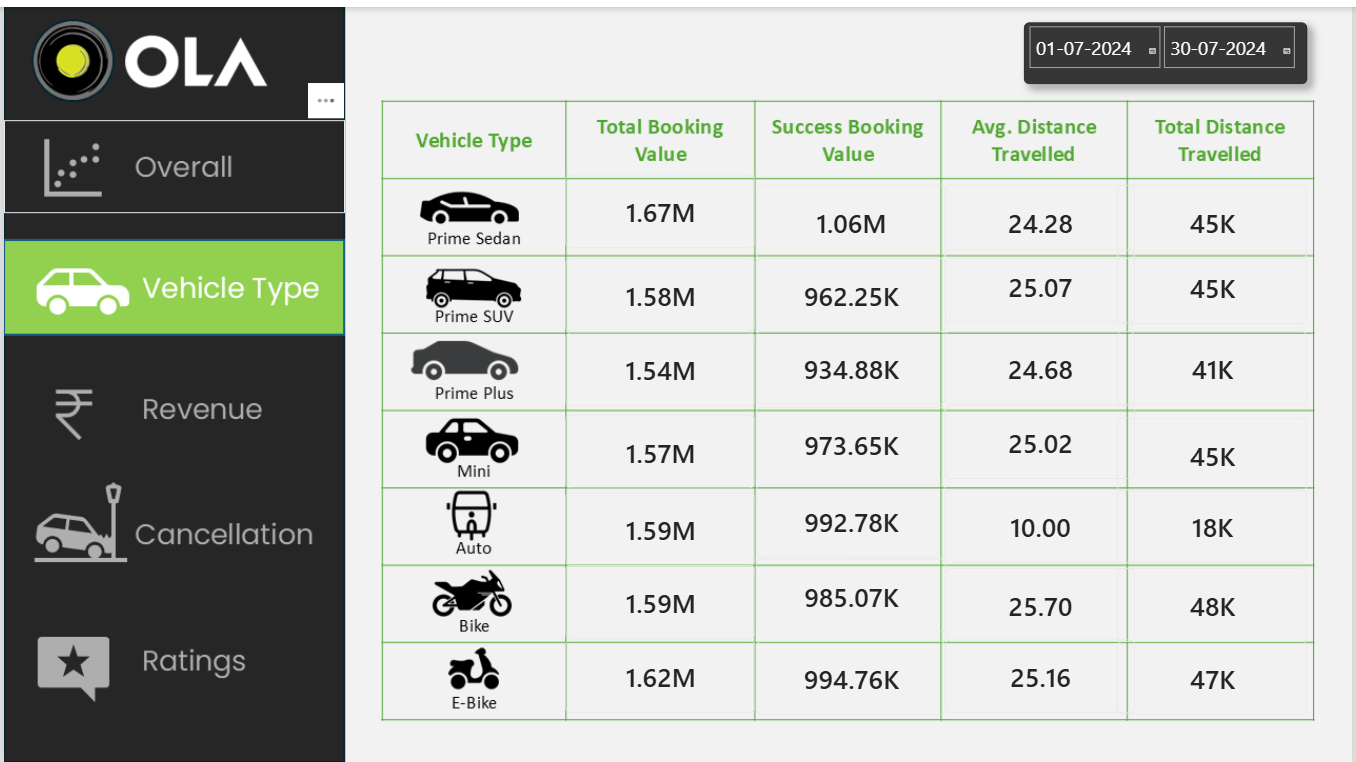

The dashboard page shown, as its layout file describes it:
{"tool":"powerbi","page":{"name":"Vehicle Type","canvas":[1920,1080],"ordinal":1},"visuals":[{"type":"actionButton","box":[0,161.2,486,133.5],"z":0},{"type":"actionButton","box":[10.1,516.3,486,133.5],"z":1000},{"type":"actionButton","box":[10.1,679.9,486,133.5],"z":2000},{"type":"actionButton","box":[10.1,873.9,486,133.5],"z":3000},{"type":"cardVisual","fields":{"Data":["Sum(bookings (2).Booking_Value)"]},"box":[799,238.2,271.4,105.5],"z":4000},{"type":"cardVisual","fields":{"Data":["Sum(bookings (2).Booking_Value)"]},"box":[799,464.3,271.4,105.5],"z":5000},{"type":"cardVisual","fields":{"Data":["Sum(bookings (2).Booking_Value)"]},"box":[799,581.9,271.4,105.5],"z":6000},{"type":"cardVisual","fields":{"Data":["Sum(bookings (2).Booking_Value)"]},"box":[799,690.5,271.4,105.5],"z":7000},{"type":"cardVisual","fields":{"Data":["Sum(bookings (2).Booking_Value)"]},"box":[799,796,271.4,105.5],"z":8000},{"type":"cardVisual","fields":{"Data":["Sum(bookings (2).Booking_Value)"]},"box":[799,901.6,271.4,105.5],"z":9000},{"type":"cardVisual","fields":{"Data":["Sum(bookings (2).Booking_Value)"]},"box":[799,358.8,271.4,105.5],"z":10000},{"type":"cardVisual","fields":{"Data":["Sum(bookings (2).Booking_Value)"]},"box":[1070.4,253.3,271.4,105.5],"z":11000},{"type":"cardVisual","fields":{"Data":["Sum(bookings (2).Booking_Value)"]},"box":[1070.4,358.8,271.4,105.5],"z":12000},{"type":"cardVisual","fields":{"Data":["Sum(bookings (2).Booking_Value)"]},"box":[1070.4,461.3,271.4,105.5],"z":13000},{"type":"cardVisual","fields":{"Data":["Sum(bookings (2).Booking_Value)"]},"box":[1070.4,569.9,271.4,105.5],"z":14000},{"type":"cardVisual","fields":{"Data":["Sum(bookings (2).Booking_Value)"]},"box":[1070.4,681.4,271.4,105.5],"z":15000},{"type":"cardVisual","fields":{"Data":["Sum(bookings (2).Booking_Value)"]},"box":[1070.4,787,271.4,105.5],"z":16000},{"type":"cardVisual","fields":{"Data":["Sum(bookings (2).Booking_Value)"]},"box":[1070.4,904.6,271.4,105.5],"z":17000},{"type":"cardVisual","fields":{"Data":["Avg(bookings (2).Ride_Distance)"]},"box":[1341.8,253.3,271.4,105.5],"z":18000},{"type":"cardVisual","fields":{"Data":["Avg(bookings (2).Ride_Distance)"]},"box":[1341.8,343.7,271.4,105.5],"z":19000},{"type":"cardVisual","fields":{"Data":["Avg(bookings (2).Ride_Distance)"]},"box":[1341.8,461.3,271.4,105.5],"z":20000},{"type":"cardVisual","fields":{"Data":["Avg(bookings (2).Ride_Distance)"]},"box":[1341.8,566.9,271.4,105.5],"z":21000},{"type":"cardVisual","fields":{"Data":["Avg(bookings (2).Ride_Distance)"]},"box":[1341.8,687.5,271.4,105.5],"z":22000},{"type":"cardVisual","fields":{"Data":["Avg(bookings (2).Ride_Distance)"]},"box":[1341.8,799,271.4,105.5],"z":23000},{"type":"cardVisual","fields":{"Data":["Avg(bookings (2).Ride_Distance)"]},"box":[1341.8,901.6,271.4,105.5],"z":24000},{"type":"cardVisual","fields":{"Data":["Sum(bookings (2).Ride_Distance)"]},"box":[1586,253.3,271.4,105.5],"z":25000},{"type":"cardVisual","fields":{"Data":["Sum(bookings (2).Ride_Distance)"]},"box":[1586,346.8,271.4,105.5],"z":26000},{"type":"cardVisual","fields":{"Data":["Sum(bookings (2).Ride_Distance)"]},"box":[1586,461.3,271.4,105.5],"z":27000},{"type":"cardVisual","fields":{"Data":["Sum(bookings (2).Ride_Distance)"]},"box":[1586,585,271.4,105.5],"z":28000},{"type":"cardVisual","fields":{"Data":["Sum(bookings (2).Ride_Distance)"]},"box":[1586,687.5,271.4,105.5],"z":29000},{"type":"cardVisual","fields":{"Data":["Sum(bookings (2).Ride_Distance)"]},"box":[1586,799,271.4,105.5],"z":30000},{"type":"cardVisual","fields":{"Data":["Sum(bookings (2).Ride_Distance)"]},"box":[1586,904.6,271.4,105.5],"z":31000},{"type":"slicer","title":"Date","fields":{"Values":["bookings (2).Date"]},"box":[1453.3,21.1,404,87.4],"z":32000}]}

Visuals, with their boxes on the page's 1920x1080 design canvas (x1, y1, x2, y2). These are canvas units, not pixel positions in the 1356x762 screenshot, which may show the page scaled, cropped or inside an application window:
actionButton: 0/161/486/295
actionButton: 10/516/496/650
actionButton: 10/680/496/813
actionButton: 10/874/496/1007
cardVisual - Sum(bookings (2).Booking_Value): 799/238/1070/344
cardVisual - Sum(bookings (2).Booking_Value): 799/464/1070/570
cardVisual - Sum(bookings (2).Booking_Value): 799/582/1070/687
cardVisual - Sum(bookings (2).Booking_Value): 799/690/1070/796
cardVisual - Sum(bookings (2).Booking_Value): 799/796/1070/902
cardVisual - Sum(bookings (2).Booking_Value): 799/902/1070/1007
cardVisual - Sum(bookings (2).Booking_Value): 799/359/1070/464
cardVisual - Sum(bookings (2).Booking_Value): 1070/253/1342/359
cardVisual - Sum(bookings (2).Booking_Value): 1070/359/1342/464
cardVisual - Sum(bookings (2).Booking_Value): 1070/461/1342/567
cardVisual - Sum(bookings (2).Booking_Value): 1070/570/1342/675
cardVisual - Sum(bookings (2).Booking_Value): 1070/681/1342/787
cardVisual - Sum(bookings (2).Booking_Value): 1070/787/1342/892
cardVisual - Sum(bookings (2).Booking_Value): 1070/905/1342/1010
cardVisual - Avg(bookings (2).Ride_Distance): 1342/253/1613/359
cardVisual - Avg(bookings (2).Ride_Distance): 1342/344/1613/449
cardVisual - Avg(bookings (2).Ride_Distance): 1342/461/1613/567
cardVisual - Avg(bookings (2).Ride_Distance): 1342/567/1613/672
cardVisual - Avg(bookings (2).Ride_Distance): 1342/688/1613/793
cardVisual - Avg(bookings (2).Ride_Distance): 1342/799/1613/904
cardVisual - Avg(bookings (2).Ride_Distance): 1342/902/1613/1007
cardVisual - Sum(bookings (2).Ride_Distance): 1586/253/1857/359
cardVisual - Sum(bookings (2).Ride_Distance): 1586/347/1857/452
cardVisual - Sum(bookings (2).Ride_Distance): 1586/461/1857/567
cardVisual - Sum(bookings (2).Ride_Distance): 1586/585/1857/690
cardVisual - Sum(bookings (2).Ride_Distance): 1586/688/1857/793
cardVisual - Sum(bookings (2).Ride_Distance): 1586/799/1857/904
cardVisual - Sum(bookings (2).Ride_Distance): 1586/905/1857/1010
"Date" slicer: 1453/21/1857/108
